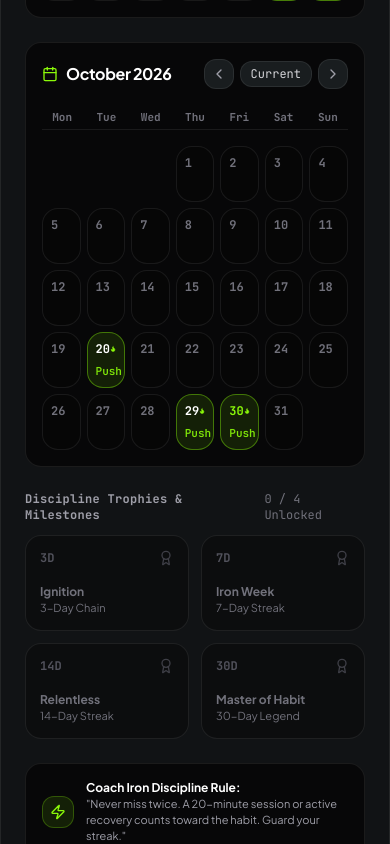
Scenario: GymConsistencyStreakCalendar › opens the day details for a trained day, and closes them
This screenshot has width=390, height=844.
(page scrolled)
Click the button "29 Push". click: (195, 422)
box: left=176, top=394, right=214, bottom=450
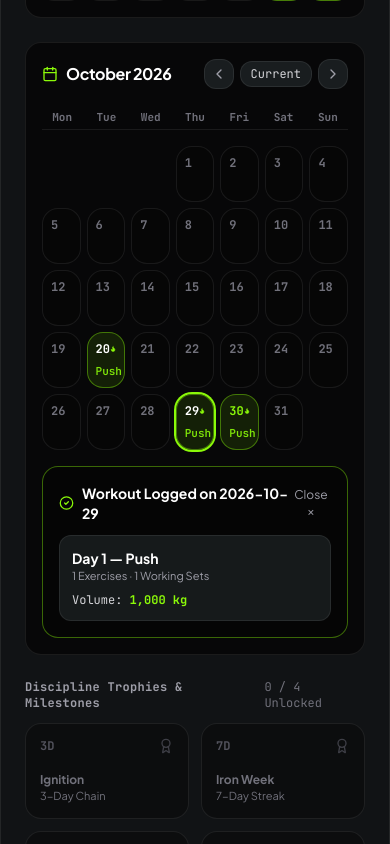
Expected: the text "Workout Logged on 2026-10-29" is shown, left=82, top=483, right=291, bottom=523
Expected: the text "Volume: 1,000 kg" is shown, left=72, top=592, right=187, bottom=608
Click the button "Close ×". click: (311, 503)
box: left=291, top=487, right=331, bottom=519
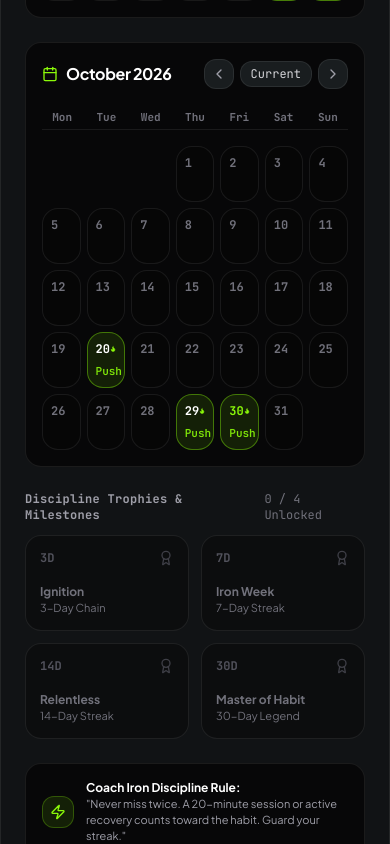
Expected: the text "Workout Logged on" is gone
